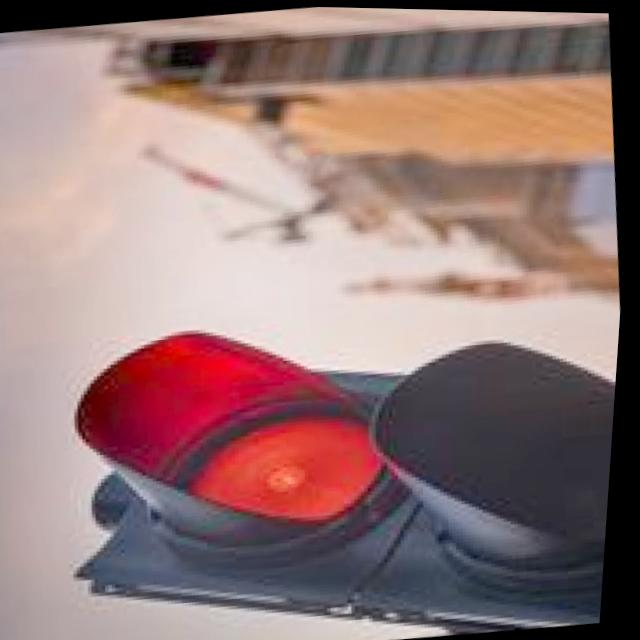red_light: (118, 249, 421, 581)
